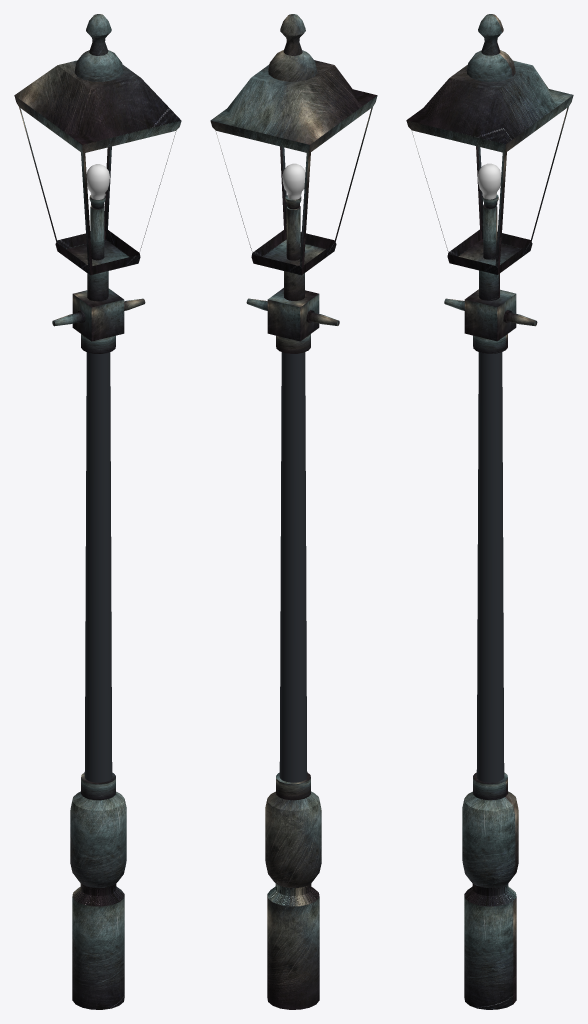
Rendered from lamppost.fbx.
The picture shows the model from 3 angles, left to right: view 1: azimuth 30°, elevation 25°; view 2: azimuth 150°, elevation 25°; view 3: azimuth 330°, elevation 25°; orthographic projection.
Parts seen in each view (by area): view 1: Capsule, Cube_1, Cylinder, Cube, Sphere_1, Cylinder_5, Sphere, Tube, Capsule_1, Cylinder_3, Tube_1; view 2: Capsule, Cube_1, Cylinder, Cube, Sphere_1, Cylinder_5, Sphere, Tube, Capsule_1, Cylinder_3, Tube_1; view 3: Capsule, Cube_1, Cylinder, Cube, Sphere_1, Cylinder_5, Sphere, Capsule_1, Tube, Cylinder_3, Tube_1.
Part boxes in pixels (box(x1,y1,x2,y2)): Capsule: box(70, 352, 126, 887); Cube_1: box(14, 60, 181, 275); Cylinder: box(72, 883, 124, 1009); Cube: box(72, 288, 124, 341); Sphere_1: box(74, 50, 123, 81); Cylinder_5: box(90, 205, 104, 260); Sphere: box(86, 14, 111, 55); Tube: box(81, 772, 115, 800); Capsule_1: box(86, 164, 109, 199); Cylinder_3: box(87, 271, 108, 301); Tube_1: box(81, 334, 115, 353); Capsule: box(265, 352, 321, 887); Cube_1: box(210, 60, 377, 275); Cylinder: box(267, 883, 319, 1009); Cube: box(267, 288, 319, 341); Sphere_1: box(268, 50, 317, 81); Cylinder_5: box(286, 206, 300, 260); Sphere: box(280, 14, 305, 55); Tube: box(276, 772, 310, 800); Capsule_1: box(282, 163, 305, 199); Cylinder_3: box(284, 271, 304, 300); Tube_1: box(276, 334, 310, 353); Capsule: box(462, 352, 518, 887); Cube_1: box(406, 60, 573, 274); Cylinder: box(464, 883, 516, 1009); Cube: box(464, 289, 516, 341); Sphere_1: box(466, 50, 515, 81); Cylinder_5: box(483, 205, 497, 259); Sphere: box(478, 14, 503, 55); Capsule_1: box(477, 163, 501, 199); Tube: box(473, 772, 507, 800); Cylinder_3: box(479, 270, 499, 300); Tube_1: box(473, 334, 507, 353).
Bounding box in the file's own units: 8.07 × 76.29 × 9.53.
1 material, 1 textured.
